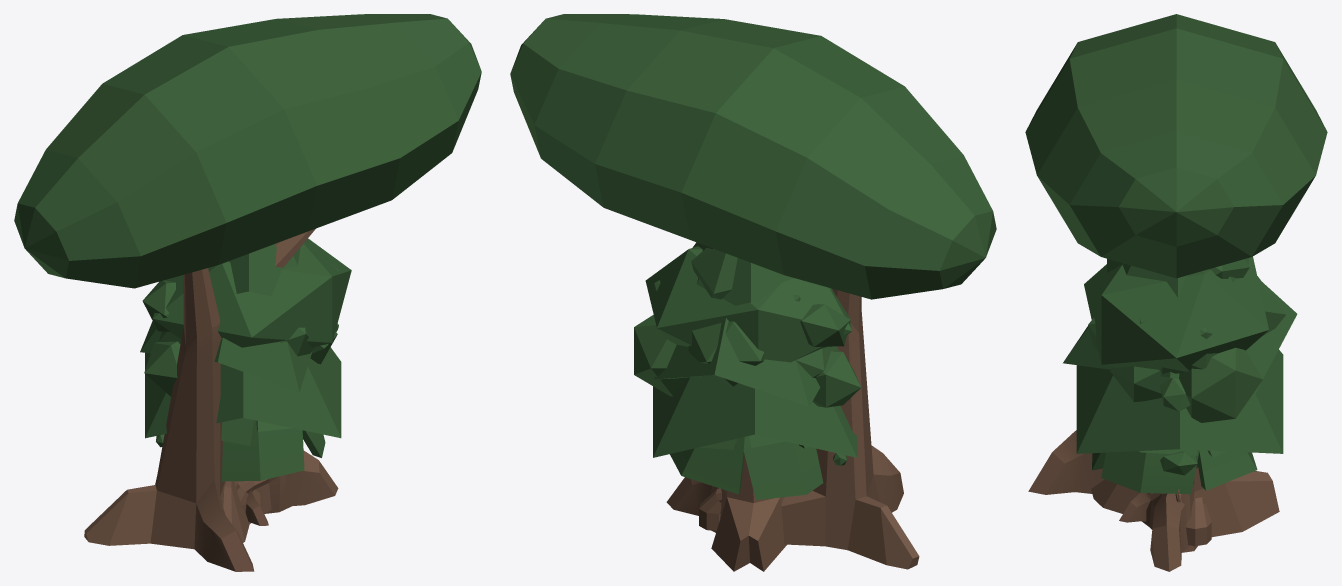
File: Trees.fbx
3 views of the same model, side by side, from view 1: azimuth 30°, elevation 25°; view 2: azimuth 150°, elevation 25°; view 3: azimuth 270°, elevation 25° (orthographic). The views are drawn at different scales.
Parts seen in each view (by area): view 1: Tree09, Tree011, Tree010, Tree03, Tree02, Tree01; view 2: Tree09, Tree011, Tree010, Tree02, Tree03, Tree04; view 3: Tree09, Tree011, Tree010, Tree02, Tree03, Tree01, Tree04.
Boxes of the visible parts, box(x1,y1,x2,y2) form: Tree09: box(14, 14, 481, 571); Tree011: box(140, 240, 341, 542); Tree010: box(144, 238, 351, 396); Tree03: box(221, 418, 325, 513); Tree02: box(142, 263, 339, 525); Tree01: box(156, 323, 338, 513); Tree09: box(510, 14, 996, 569); Tree011: box(653, 242, 857, 571); Tree010: box(645, 246, 861, 407); Tree02: box(634, 248, 850, 396); Tree03: box(670, 434, 823, 499); Tree04: box(699, 488, 721, 530); Tree09: box(1025, 14, 1327, 494); Tree011: box(1063, 258, 1297, 571); Tree010: box(1084, 256, 1268, 371); Tree02: box(1088, 259, 1286, 522); Tree03: box(1092, 449, 1257, 529); Tree01: box(1152, 378, 1197, 552); Tree04: box(1146, 462, 1211, 546).
Bounding box in the file's own units: 20.07 × 20.13 × 11.18.
